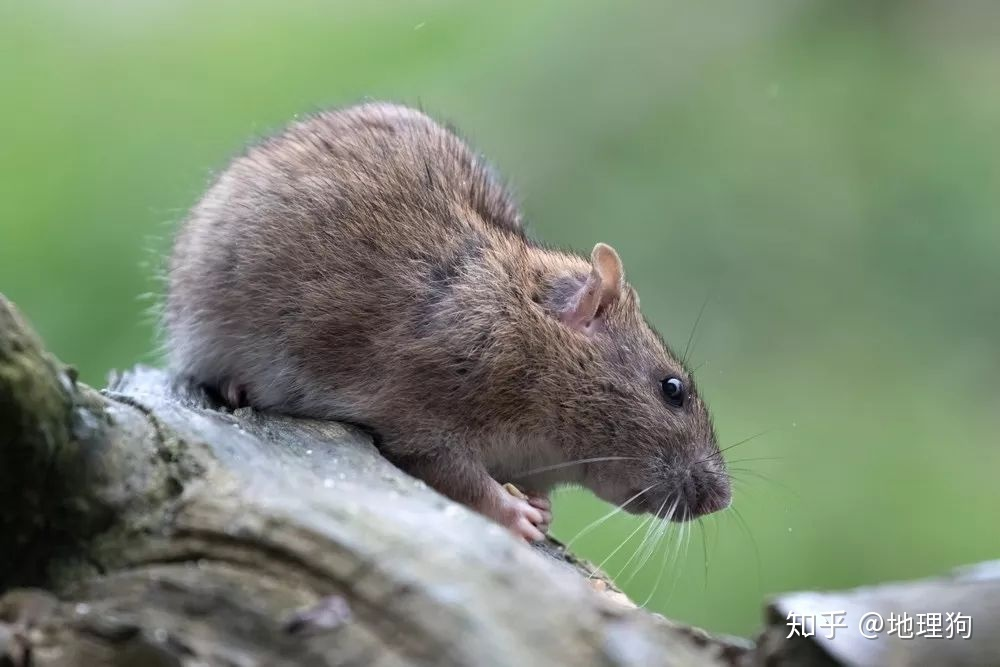mouse: (141, 83, 761, 574)
